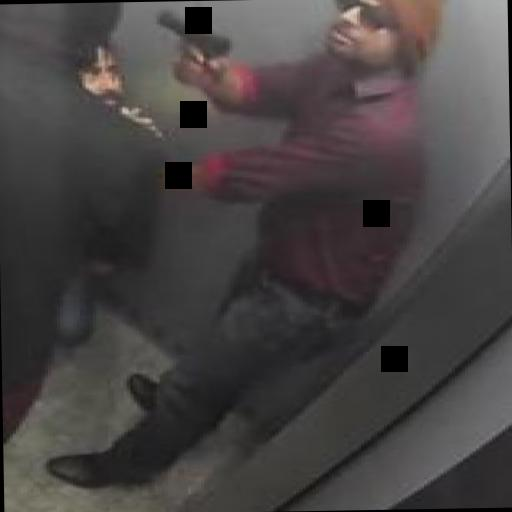Handgun: (150, 8, 234, 86)
